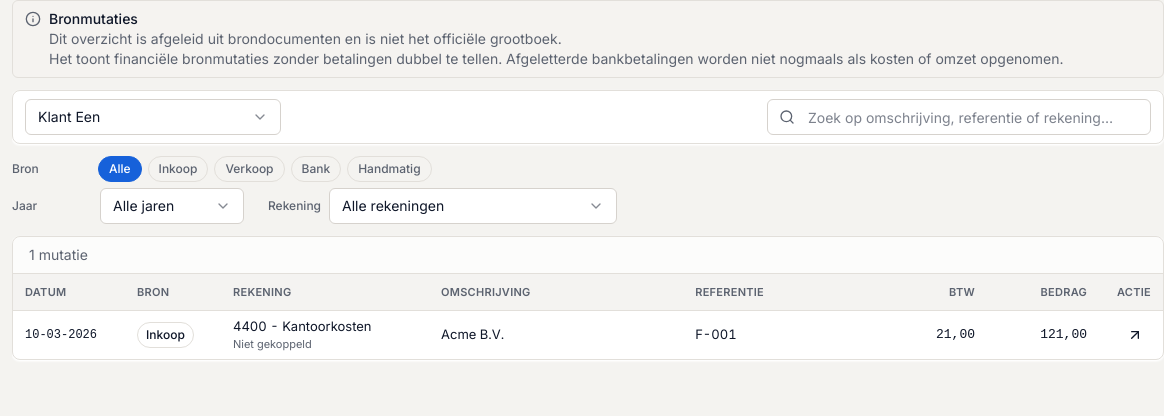
Test: Grootboekmutaties — states › 54c. toont een zoekspecifieke lege staat
Type "zzz" into the field with placeholder "Zoek op omschrijving, referentie of rekening…" at (959, 117), box [767,99,1151,135]
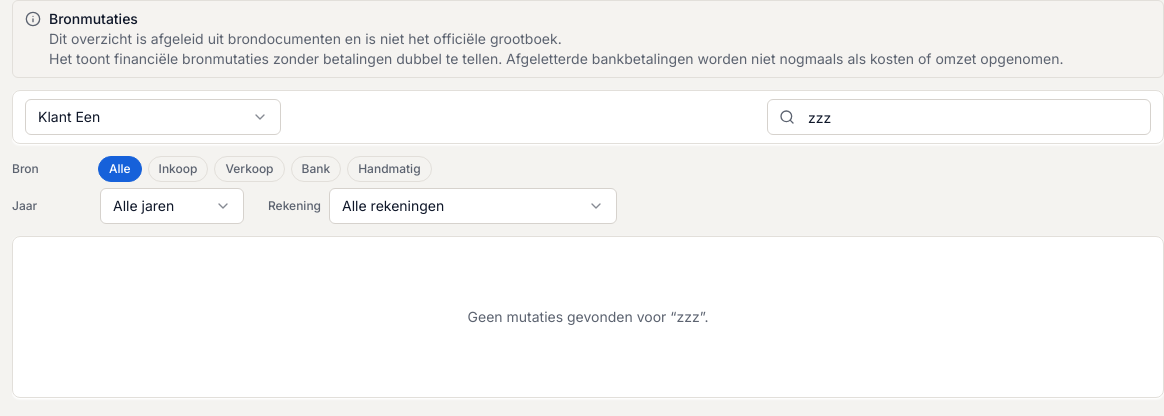
Result: the text "Geen mutaties gevonden voor “zzz”." is shown at [468,306,708,328]
